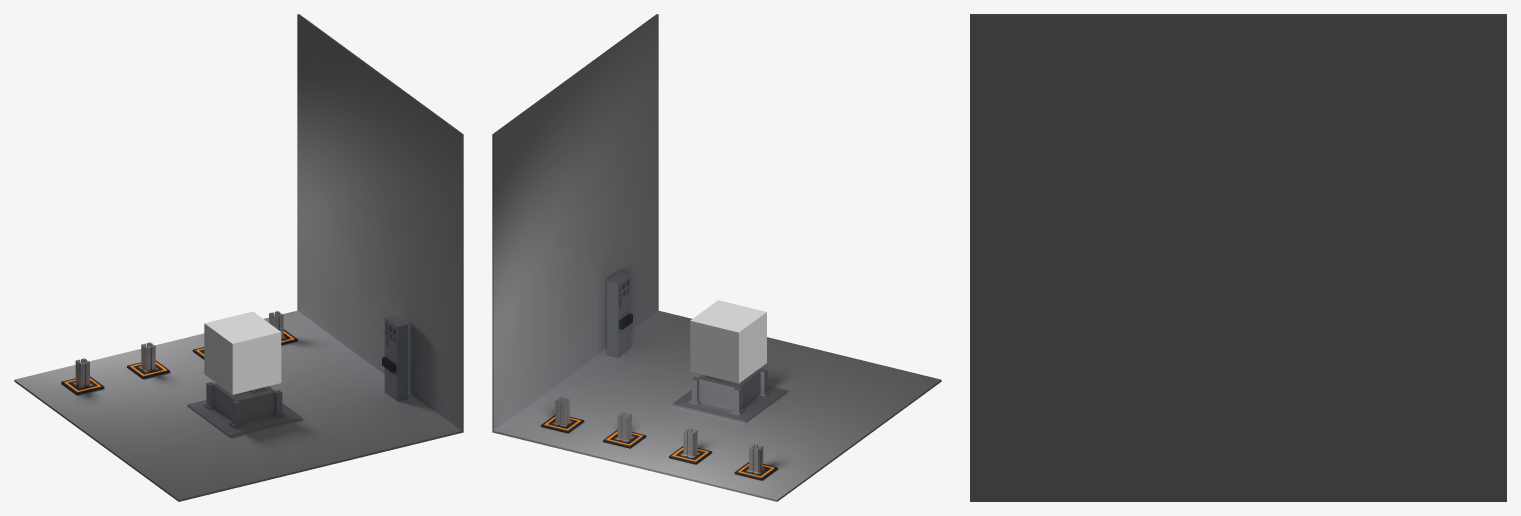
Rendered from level3-model-placeholder-new.glb.
3 renders of one model, left to right at view 1: azimuth 30°, elevation 25°; view 2: azimuth 150°, elevation 25°; view 3: azimuth 270°, elevation 25°, orthographic. The views are drawn at different scales.
Visible parts, largest first — view 1: voxel_map_level1-4-0, show-model; view 2: voxel_map_level1-4-0, show-model; view 3: voxel_map_level1-4-0.
Part boxes in pixels (left/top/right/bottom): voxel_map_level1-4-0: left=14, top=14, right=463, bottom=501; show-model: left=204, top=311, right=281, bottom=394; voxel_map_level1-4-0: left=492, top=14, right=941, bottom=501; show-model: left=690, top=300, right=766, bottom=383; voxel_map_level1-4-0: left=970, top=14, right=1506, bottom=501.
Size of the model in its own units: 156 by 156 by 156.
8 materials, 8 textured.
